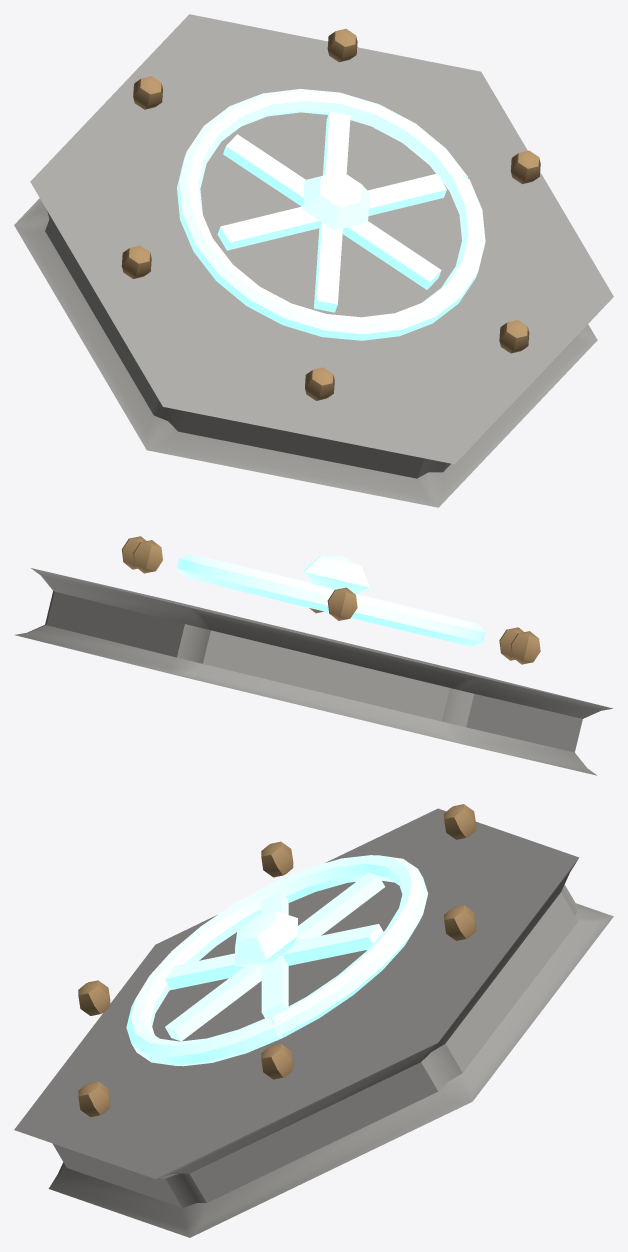
File: rune_plate.glb
The picture shows the model from 3 angles, top to bottom: view 1: azimuth 30°, elevation 25°; view 2: azimuth 150°, elevation 25°; view 3: azimuth 270°, elevation 25°; orthographic projection. The views are drawn at different scales.
Visible parts, largest first — view 1: rune_plate; view 2: rune_plate; view 3: rune_plate.
Boxes of the visible parts, x1,y1,x2,y2 form: rune_plate: (14, 14, 613, 507); rune_plate: (15, 536, 612, 775); rune_plate: (14, 804, 613, 1237).
Bounding box in the file's own units: 0.1206 × 0.0795 × 0.1305.
